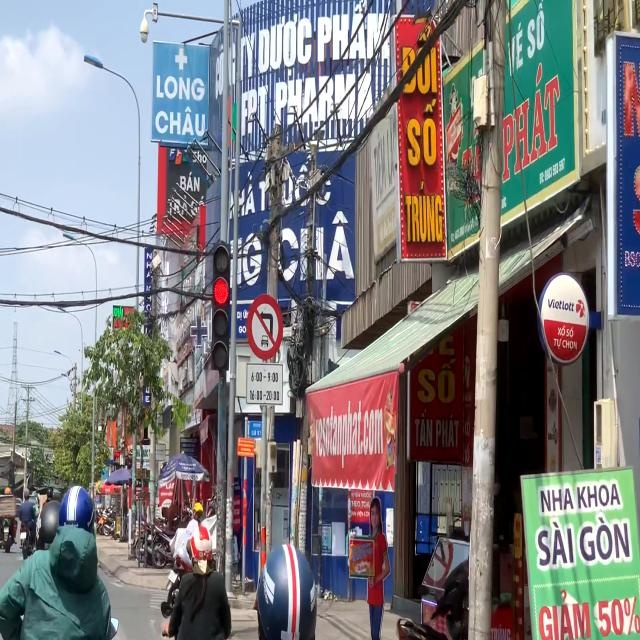bien_cam: (247, 294, 283, 358)
